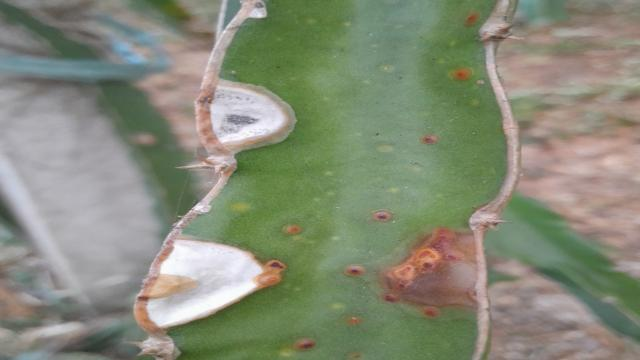stemcanker: (274, 217, 313, 244), (332, 260, 379, 282), (444, 62, 479, 88), (287, 333, 320, 352), (366, 205, 397, 225), (413, 129, 444, 149)
